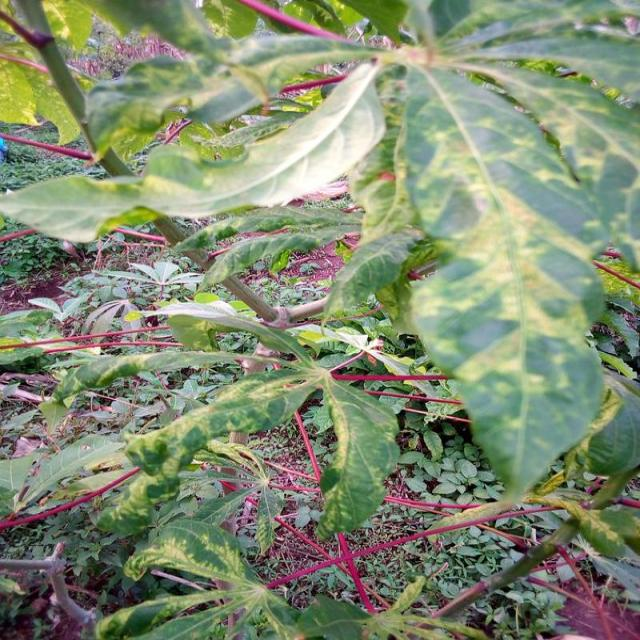cassava leaf: (389, 52, 624, 504), (0, 57, 387, 244)
